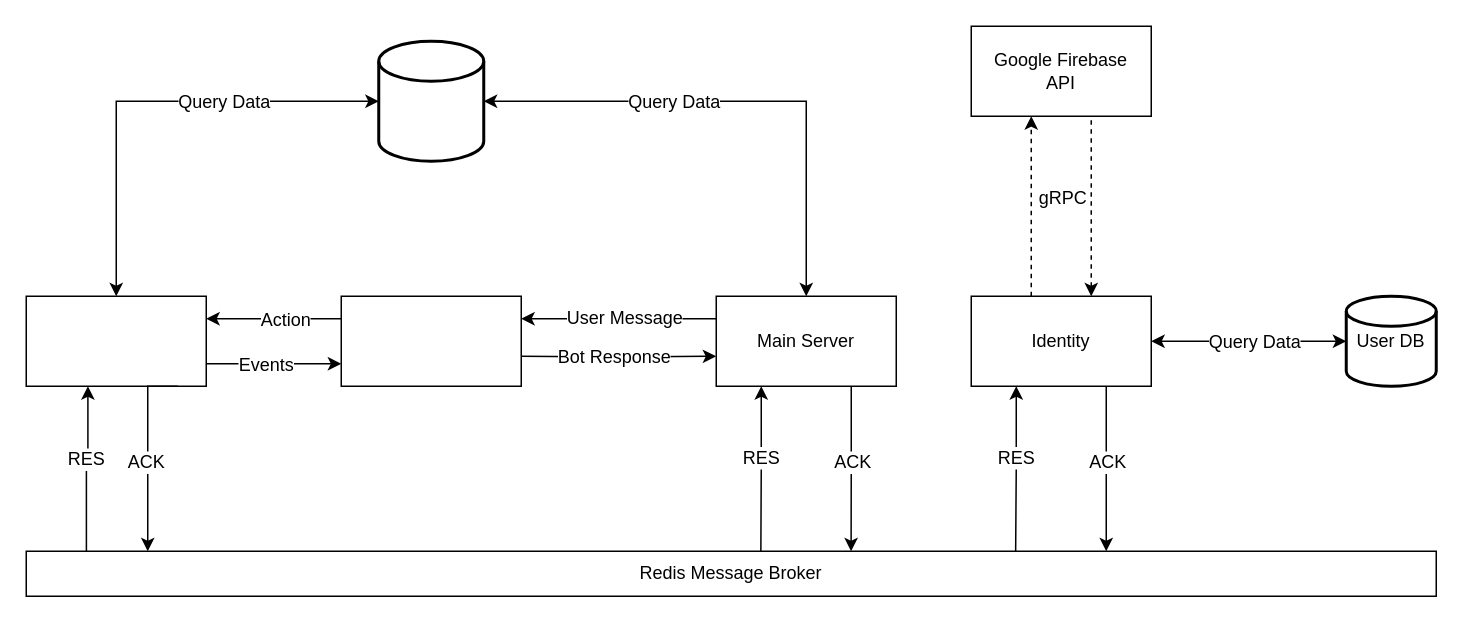
Some shapes in this 1464 by 623 pixel diagram are drawn without their labels. The centre of each missing label's shape, as x and y in pixels:
"Custom Action Server" goes at (x=115, y=340).
"Knowledge DB" goes at (x=430, y=100).
"Rasa Chatbot" goes at (x=430, y=340).
